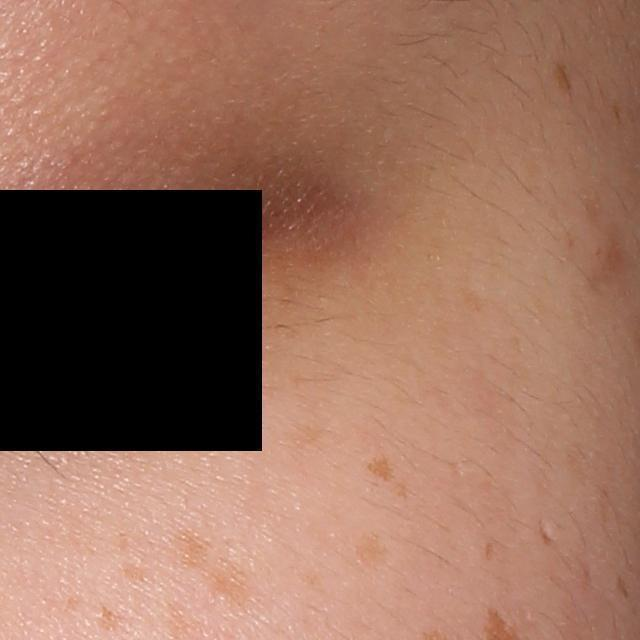atrophic_scar: (537, 518, 559, 549)
melasma: (200, 559, 251, 606), (169, 525, 214, 574), (351, 528, 392, 569), (364, 453, 398, 485), (97, 604, 127, 631), (118, 561, 150, 586), (552, 65, 575, 98), (614, 574, 632, 600), (484, 539, 496, 565)
